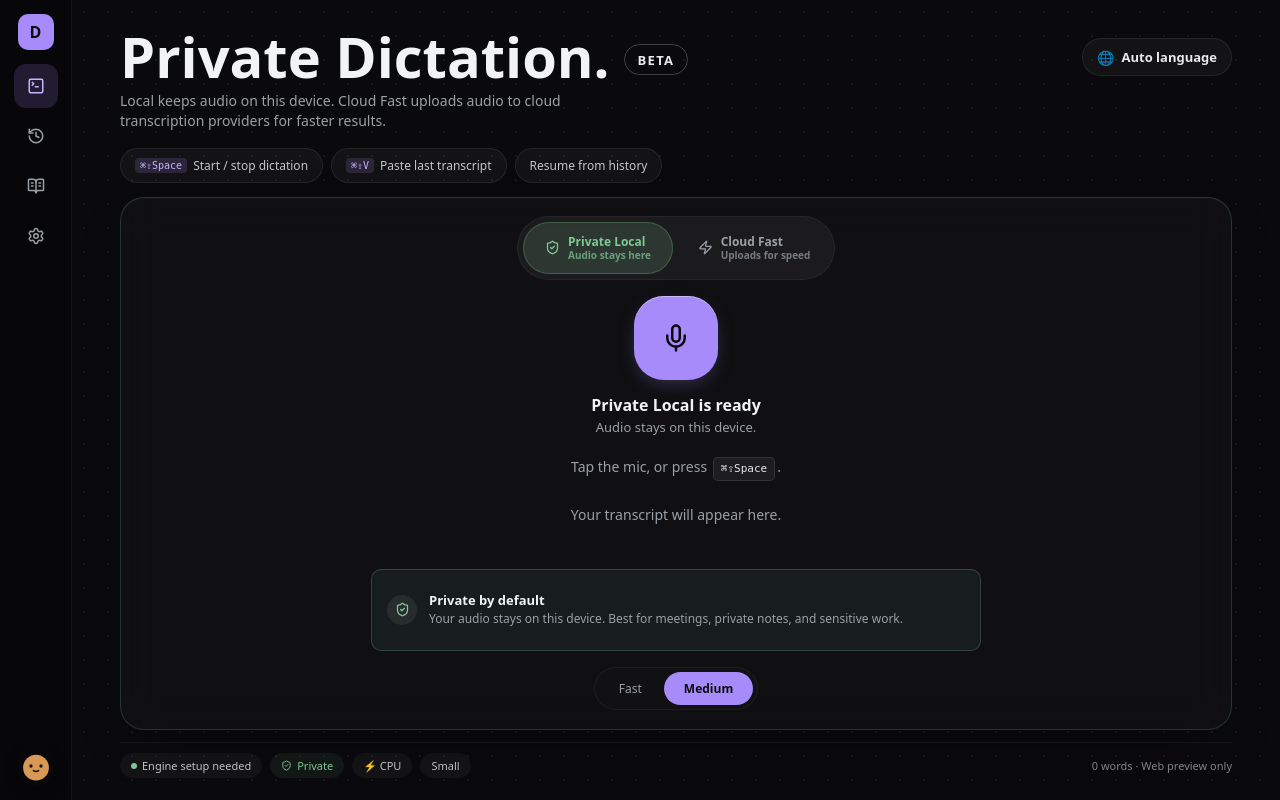
Test: App startup recovery › keeps startup native refresh active under React StrictMode remount checks
The image size is (1280, 800).
Click the button named "Settings". click: coordinates (36, 236)
box: 14,214 -> 58,258
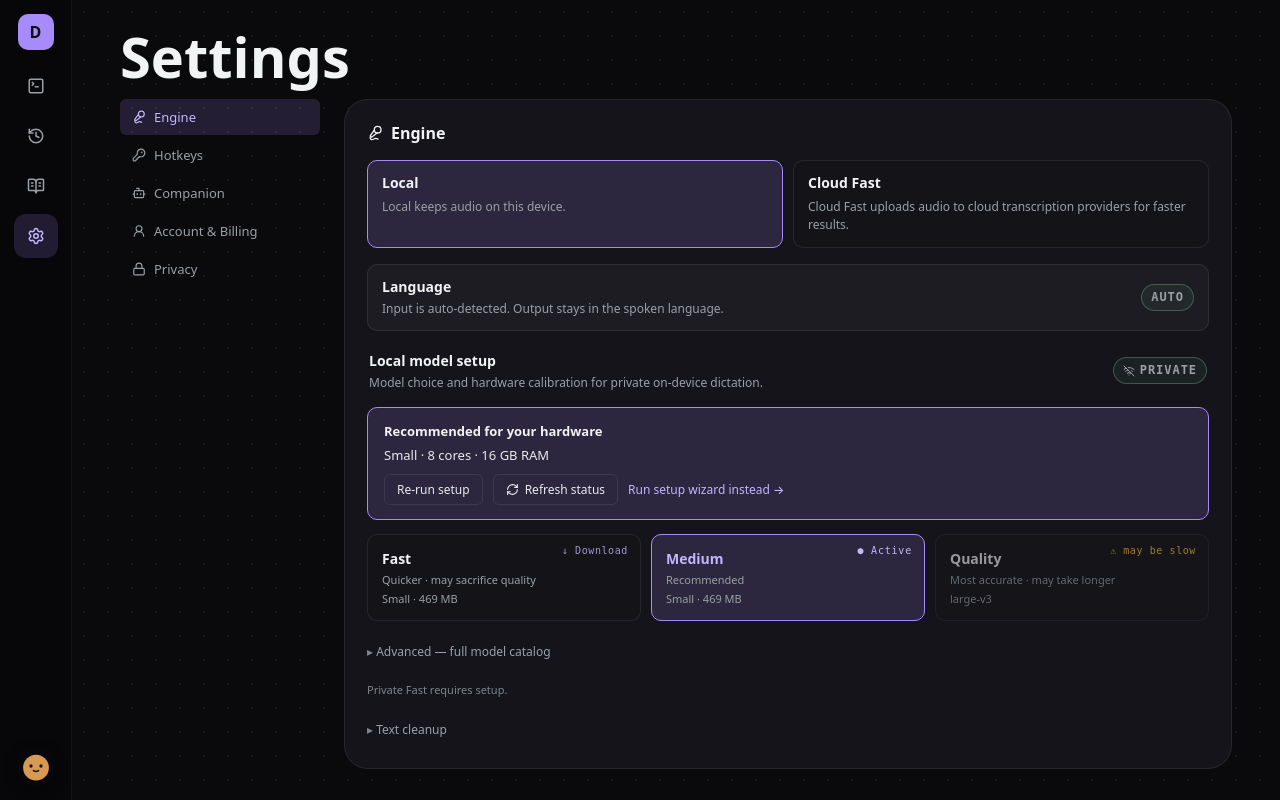
Now the text "Private Fast requires setup." is shown, box 367,682 -> 507,697
